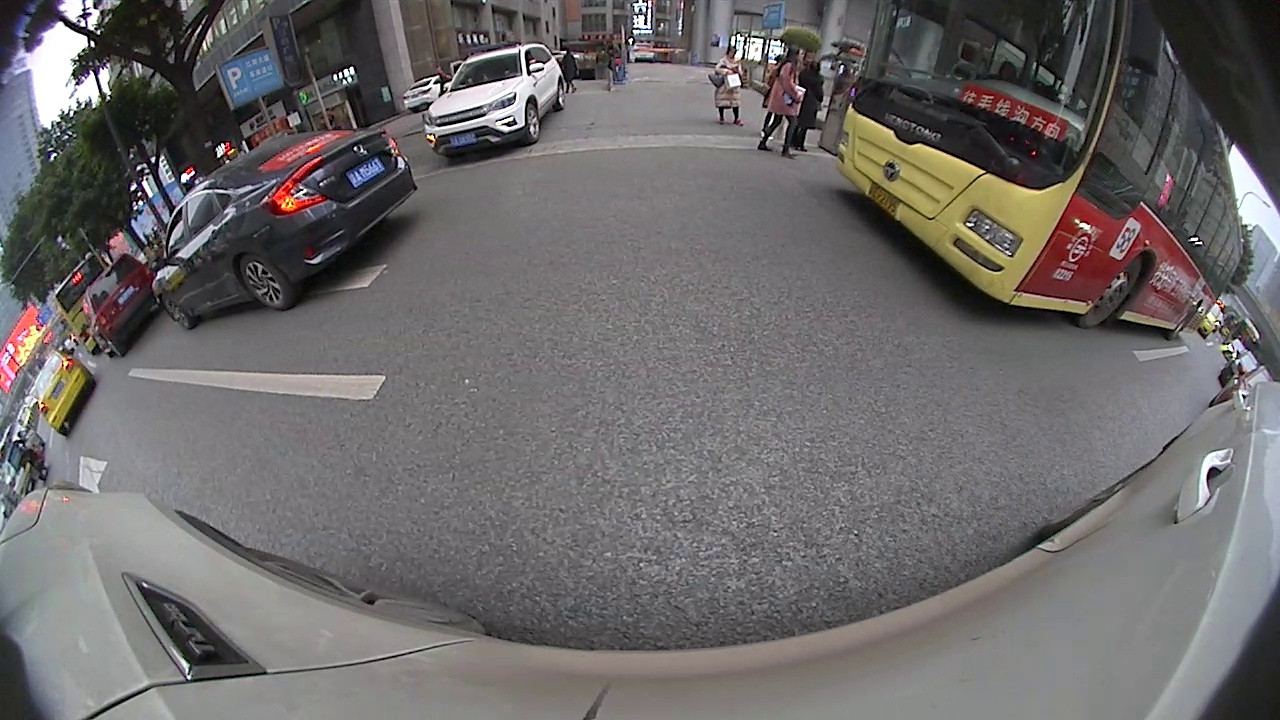bus: (829, 1, 1250, 344)
car: (149, 122, 421, 331), (419, 36, 571, 163), (82, 249, 167, 360), (27, 346, 99, 439)
front: (1070, 248, 1152, 331), (523, 98, 543, 147), (166, 301, 198, 331)
person: (772, 39, 806, 158), (711, 36, 747, 129), (801, 56, 829, 154)
rear: (232, 252, 301, 313), (552, 80, 569, 110)
